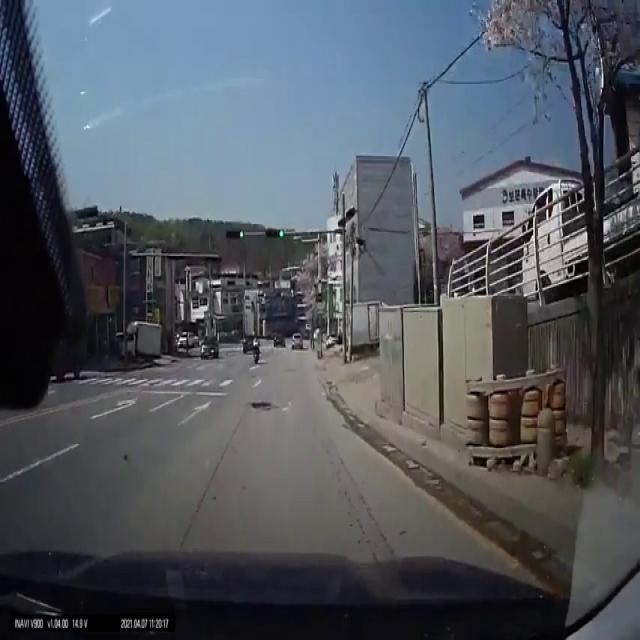Pothole: (251, 400, 274, 411)
